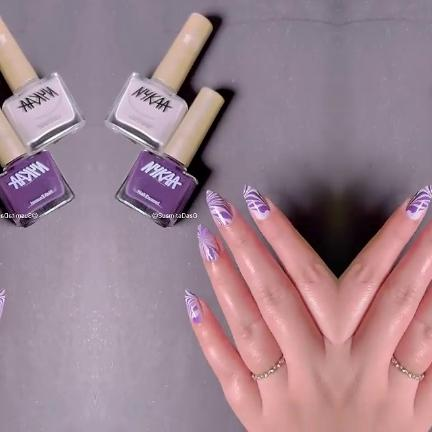Nail: (205, 189, 233, 226), (242, 184, 269, 220), (405, 184, 432, 220), (196, 224, 219, 262), (183, 288, 203, 324), (0, 288, 5, 315)
